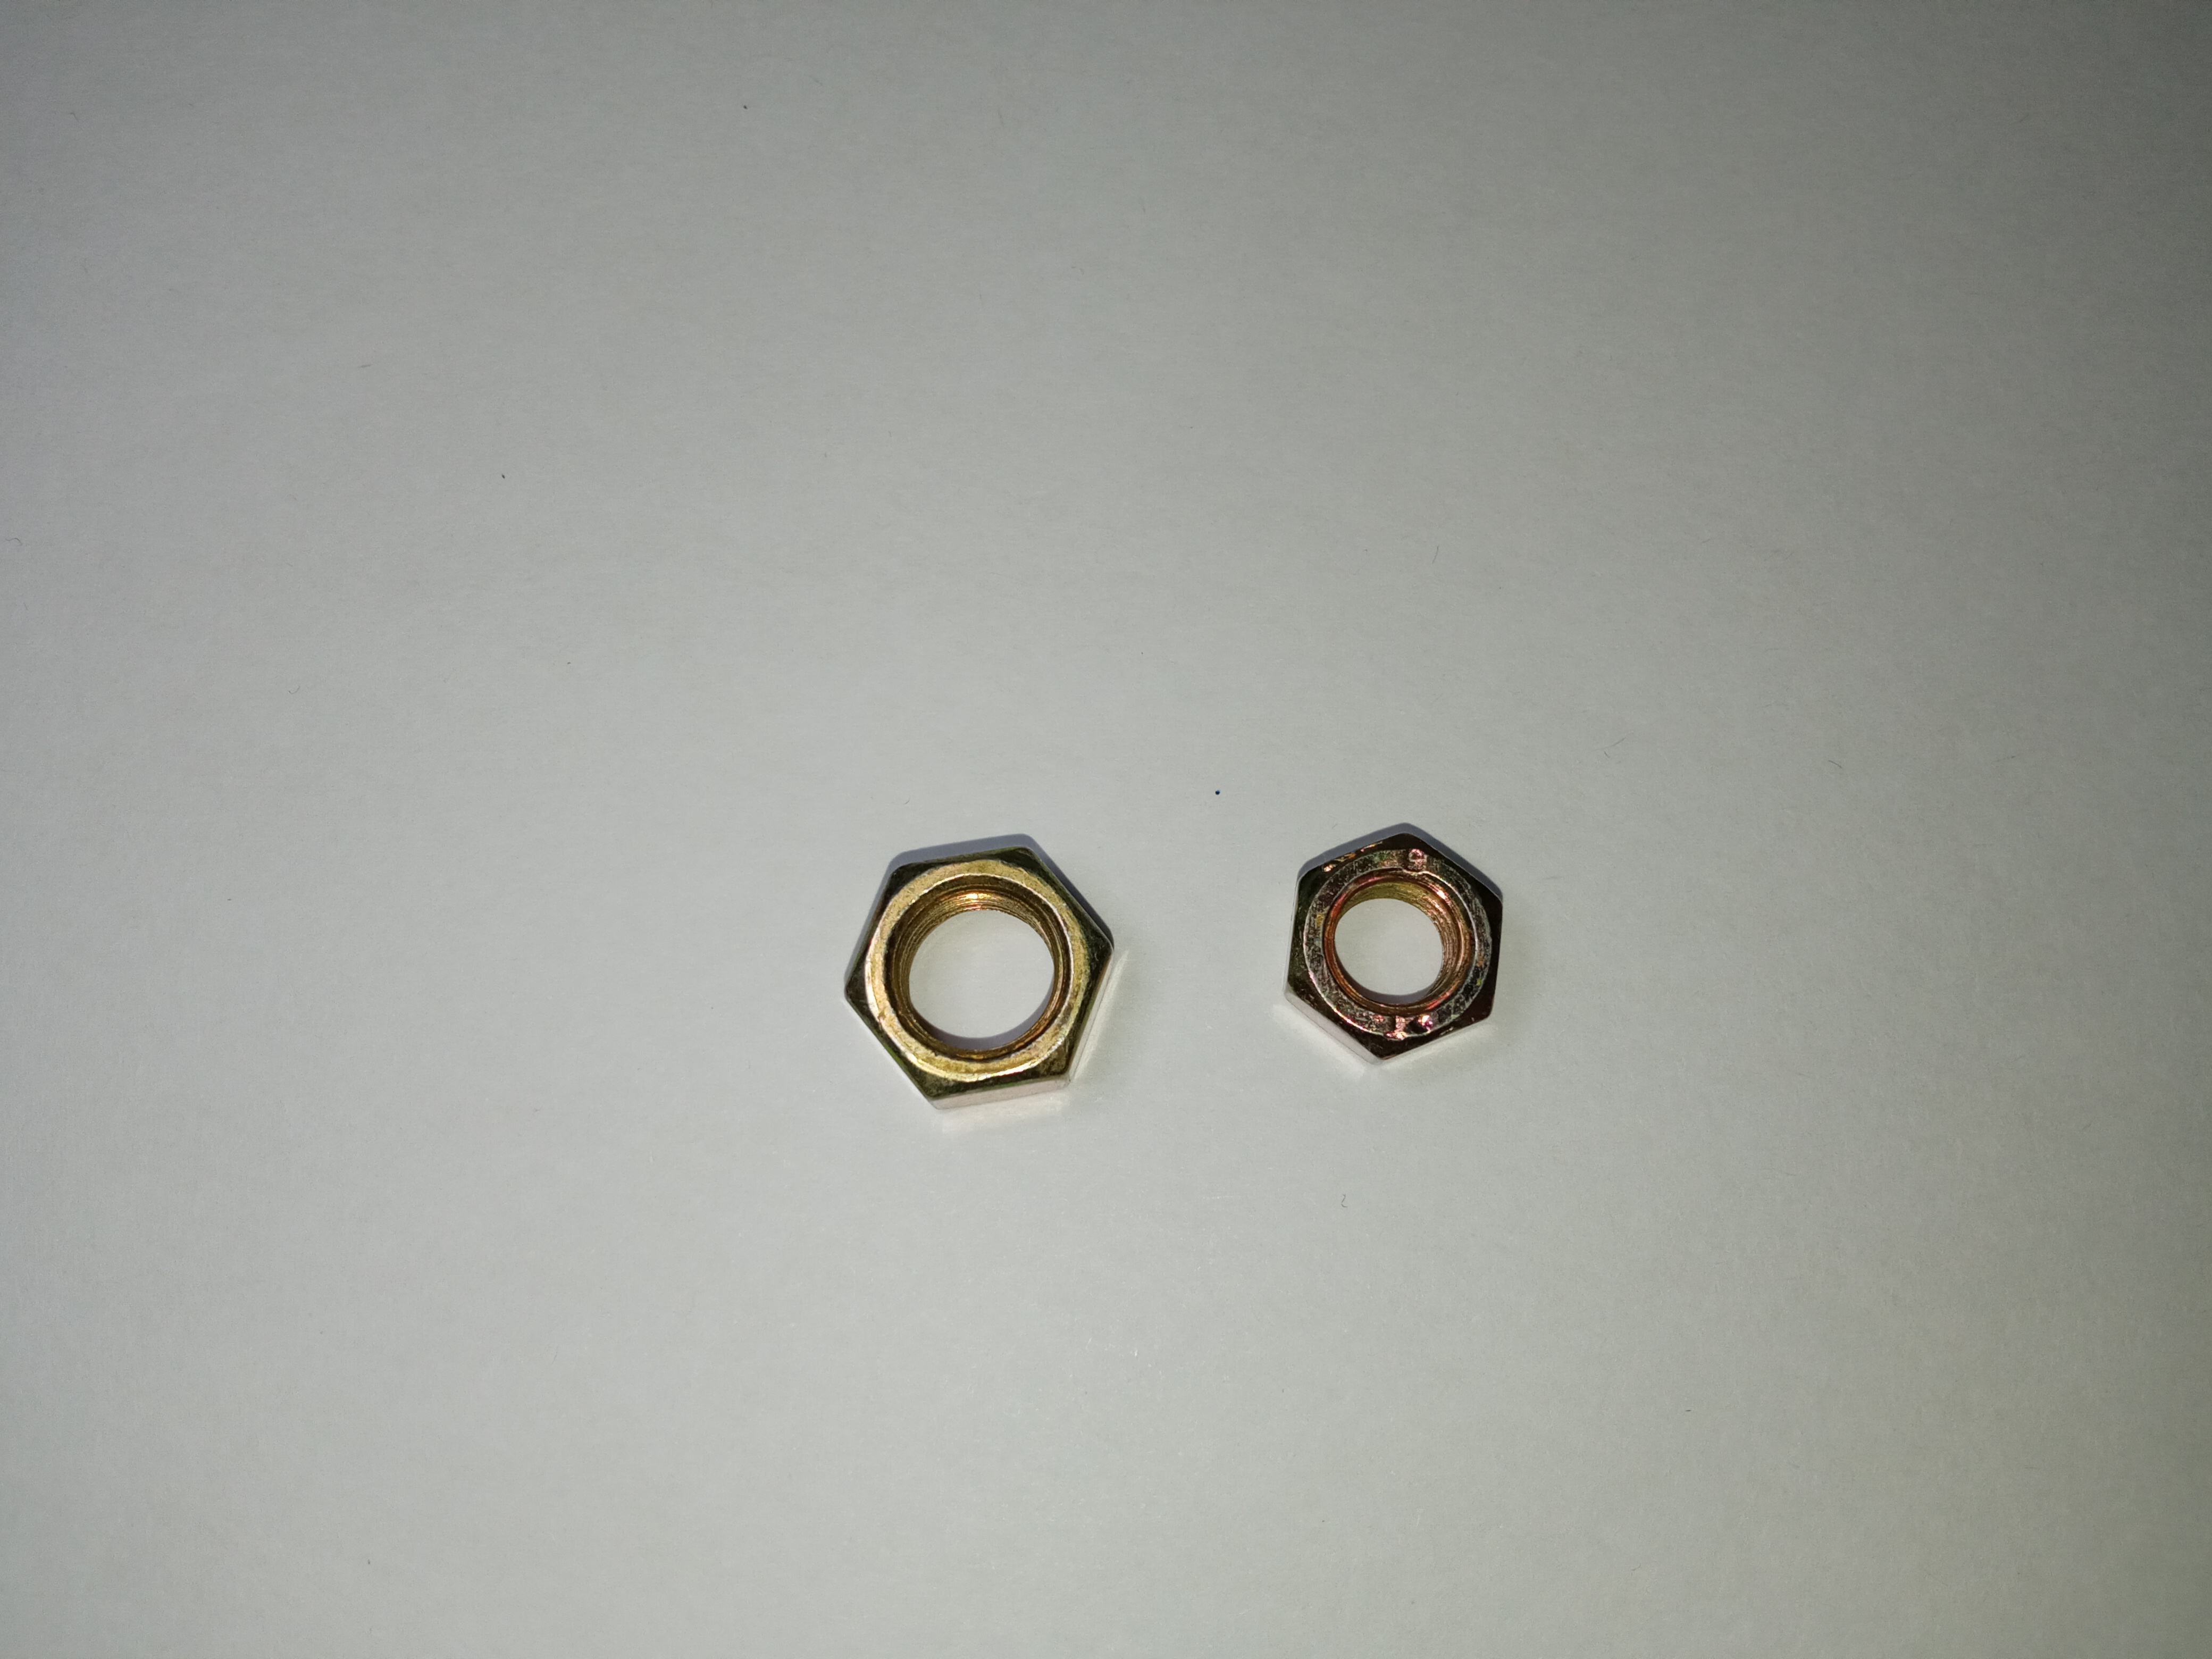m10: (833, 824, 1132, 1112)
m8: (1280, 821, 1514, 1068)
